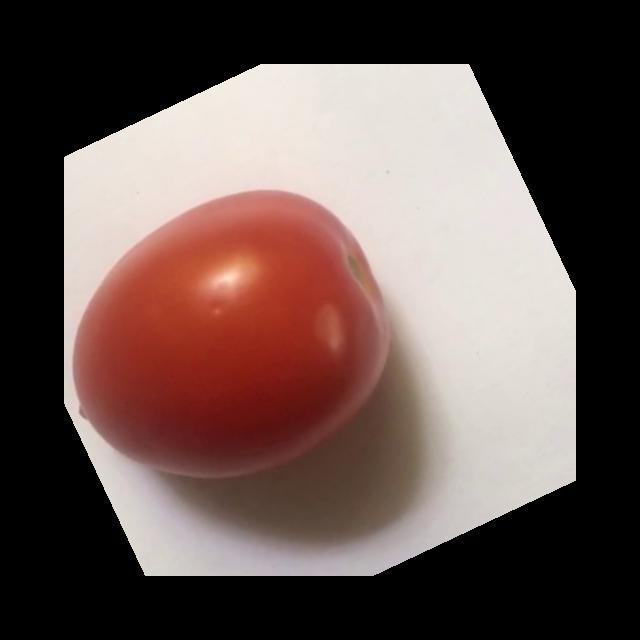tomato: (68, 183, 397, 486)
